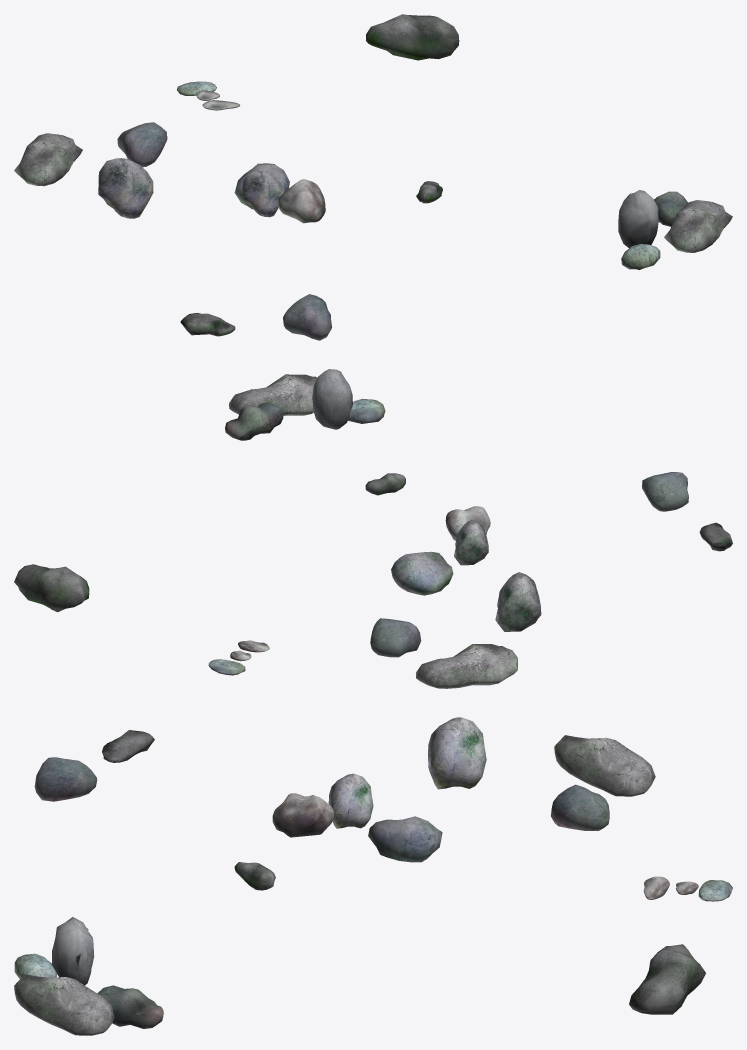
Rendered from Zen_rocks.glb.
3 views of the same model, one above another, from view 1: azimuth 30°, elevation 25°; view 2: azimuth 150°, elevation 25°; view 3: azimuth 270°, elevation 25° (orthographic). The views are drawn at different scales.
Visible parts, largest first — view 1: Rock 07.001, Rock 03.001, Rock 01.001, Rock 01, Rock 08, Rock 04, Rock 04.001, Rock 05, Rock 03, Rock 10, Rock 06, Rock 09 (+1 smaller); view 2: Rock 01.001, Rock 07.001, Rock 01, Rock 02, Rock 03.001, Rock 08, Rock 04.001, Rock 09, Rock 04, Rock 03, Rock 05, Rock 06 (+2 smaller); view 3: Rock 01.001, Rock 01, Rock 03.001, Rock 07.001, Rock 02, Rock 08, Rock 04, Rock 04.001, Rock 05, Rock 03, Rock 09, Rock 10 (+3 smaller).
Boxes of the visible parts, box(x1,y1,x2,y2) form: Rock 07.001: box(366, 14, 459, 60); Rock 03.001: box(98, 158, 153, 218); Rock 01.001: box(14, 133, 82, 186); Rock 01: box(664, 200, 732, 252); Rock 08: box(618, 190, 658, 248); Rock 04: box(283, 294, 331, 340); Rock 04.001: box(117, 122, 167, 167); Rock 05: box(278, 179, 325, 223); Rock 03: box(242, 171, 284, 217); Rock 10: box(180, 313, 235, 336); Rock 06: box(621, 244, 660, 269); Rock 09: box(654, 191, 687, 226); Rock 01.001: box(416, 644, 517, 688); Rock 07.001: box(14, 564, 89, 612); Rock 01: box(229, 374, 317, 416); Rock 02: box(391, 551, 453, 595); Rock 03.001: box(495, 572, 541, 631); Rock 08: box(312, 369, 352, 429); Rock 04.001: box(370, 618, 421, 657); Rock 09: box(225, 402, 283, 440); Rock 04: box(642, 472, 688, 511); Rock 03: box(454, 520, 488, 565); Rock 05: box(445, 506, 490, 540); Rock 06: box(348, 398, 385, 423); Rock 01.001: box(554, 735, 655, 796); Rock 01: box(14, 974, 114, 1035); Rock 03.001: box(428, 717, 486, 789); Rock 07.001: box(629, 944, 705, 1014); Rock 02: box(368, 816, 442, 862); Rock 08: box(52, 917, 94, 985); Rock 04: box(34, 757, 97, 801); Rock 04.001: box(550, 784, 609, 830); Rock 05: box(272, 793, 334, 837); Rock 03: box(328, 773, 373, 828); Rock 09: box(97, 985, 163, 1028); Rock 10: box(102, 730, 154, 762).
Size of what is drawn, in the model's own units: 30.35 by 3.45 by 30.89.
Materials: 1 (1 with a texture image).
